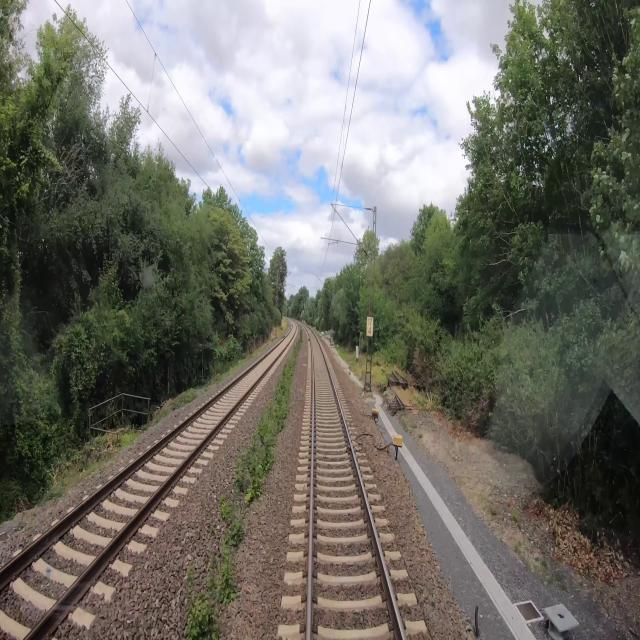Plant: (184, 326, 302, 639)
